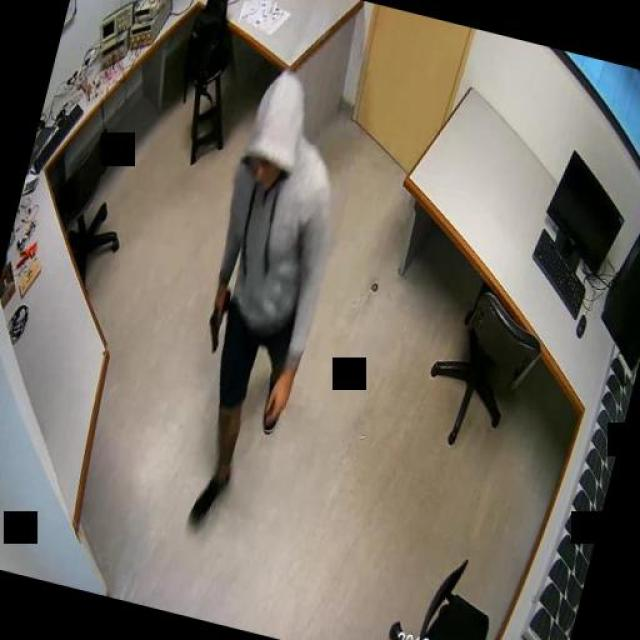gun: (202, 284, 232, 352)
